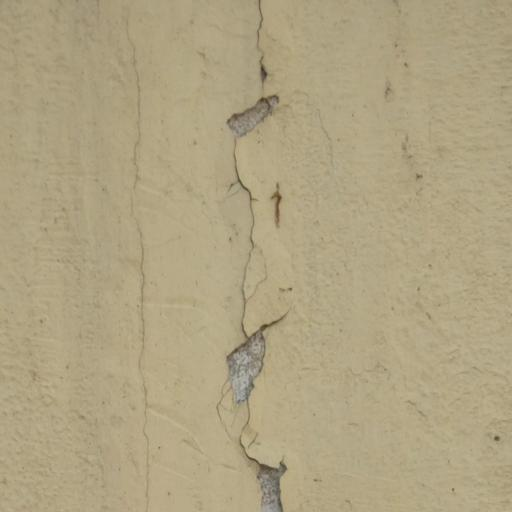peeling: (202, 2, 305, 512), (110, 0, 170, 512)
